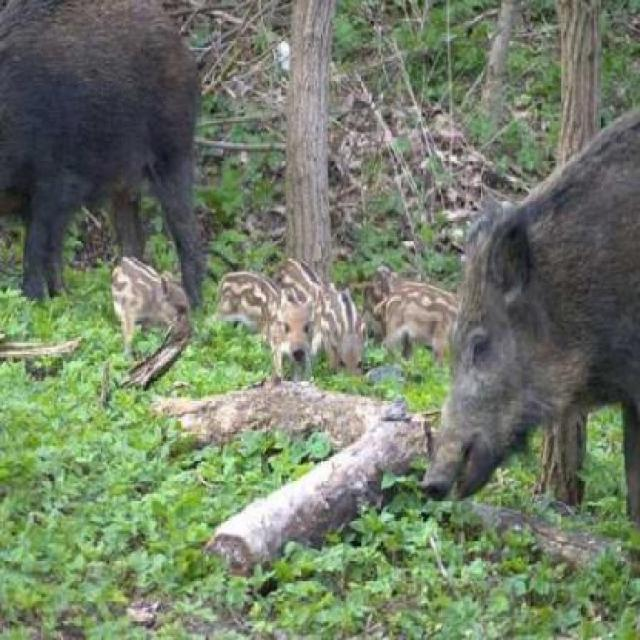pig: (409, 118, 639, 531), (0, 8, 236, 259)
